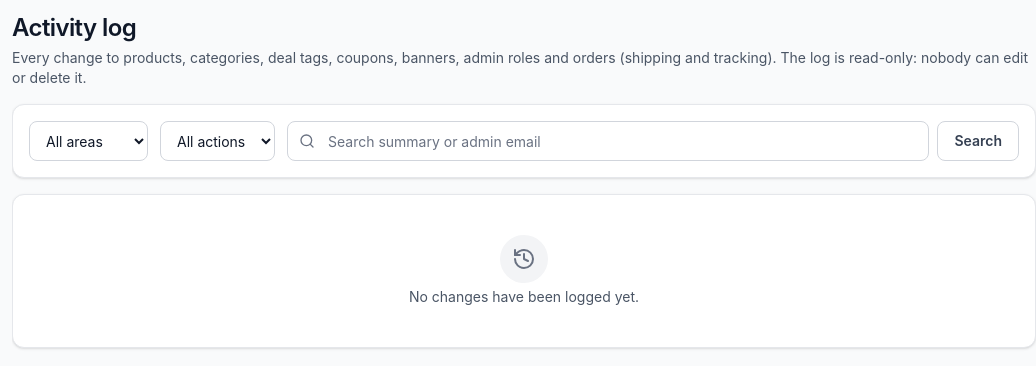
LogsPage › has clear empty, filtered-empty and error states
Expected: the text "No changes have been logged yet." is shown, [409,287,639,307]
Select "Deleted" in the dropdown named "Filter by action" at {"x": 218, "y": 141}, box [160,121,275,161]
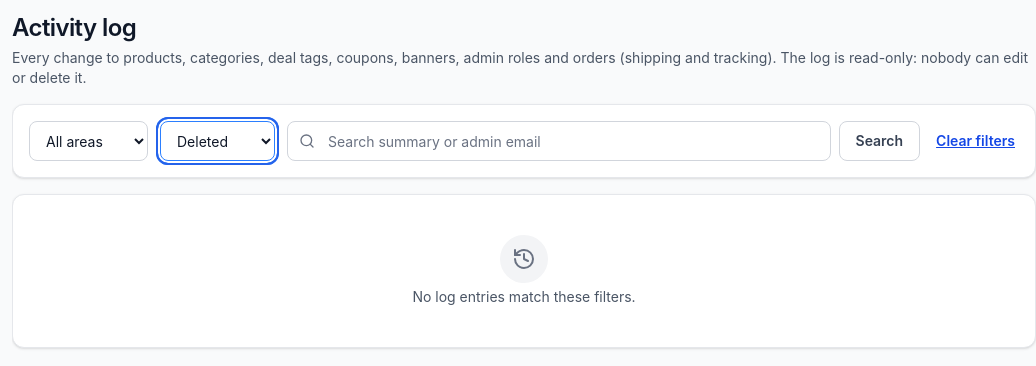
Expected: the text "No log entries match these filters." is shown, [412,287,636,307]
